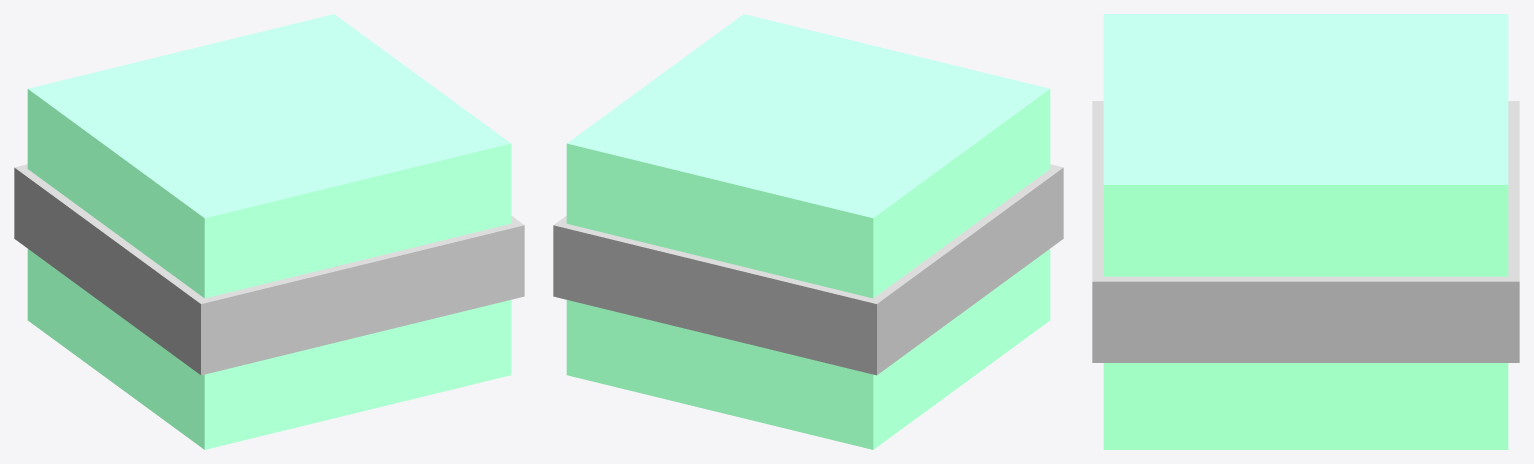
Rendered from bills.glb.
3 views of the same model, side by side, from view 1: azimuth 30°, elevation 25°; view 2: azimuth 150°, elevation 25°; view 3: azimuth 270°, elevation 25° (orthographic). The views are drawn at different scales.
Bounding box in the file's own units: 0.38 × 0.26 × 0.38.
